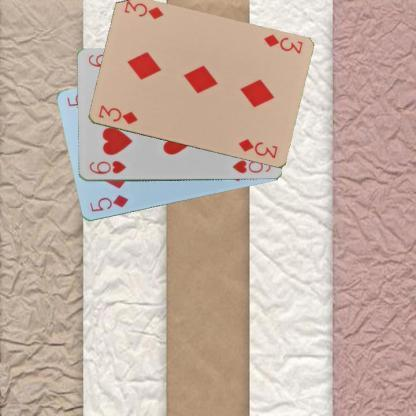3d: (96, 102, 140, 126), (260, 32, 304, 55)
5d: (87, 192, 130, 214)
6h: (86, 158, 127, 176)
